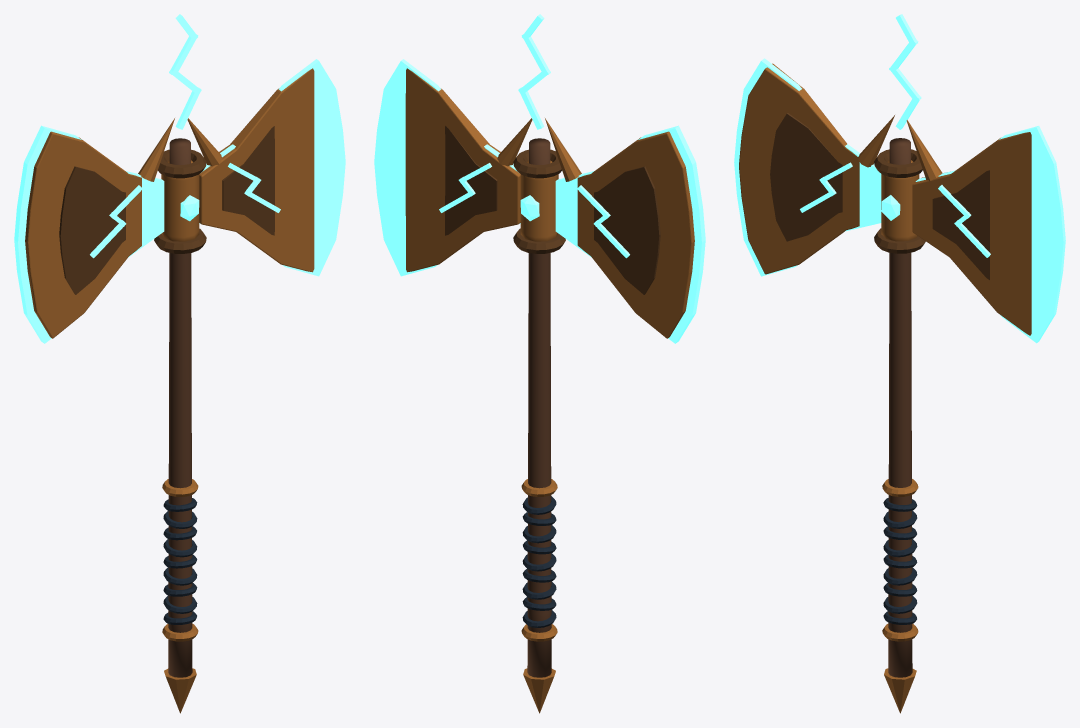
Rendered from stormwing-labrys.glb.
3 views of the same model, side by side, from view 1: azimuth 30°, elevation 25°; view 2: azimuth 150°, elevation 25°; view 3: azimuth 330°, elevation 25° (orthographic).
Parts seen in each view (by area): view 1: AX1_BladeR, AX1_BladeL, AX1_Haft, AX1_PanelL, AX1_RimR, AX1_RimL, AX1_PanelR, AX1_Socket, AX1_Socket_Top, AX1_Socket_Bot, AX1_Pommel, AX1_Horn-1 (+1 smaller); view 2: AX1_BladeR, AX1_BladeL, AX1_Haft, AX1_PanelL, AX1_RimR, AX1_RimL, AX1_PanelR, AX1_Socket, AX1_Socket_Top, AX1_Socket_Bot, AX1_Pommel, AX1_Horn-1 (+1 smaller); view 3: AX1_BladeR, AX1_BladeL, AX1_Haft, AX1_PanelL, AX1_RimR, AX1_PanelR, AX1_RimL, AX1_Socket, AX1_Socket_Top, AX1_Socket_Bot, AX1_Pommel, AX1_Horn1 (+1 smaller).
Part boxes in pixels (x1,y1,x2,y2): AX1_BladeR: [199, 68, 314, 272]; AX1_BladeL: [25, 131, 141, 338]; AX1_Haft: [168, 138, 192, 677]; AX1_PanelL: [59, 166, 125, 294]; AX1_RimR: [199, 59, 345, 276]; AX1_RimL: [14, 125, 164, 343]; AX1_PanelR: [222, 126, 274, 235]; AX1_Socket: [161, 160, 199, 241]; AX1_Socket_Top: [158, 149, 206, 178]; AX1_Socket_Bot: [154, 228, 206, 253]; AX1_Pommel: [164, 668, 196, 713]; AX1_Horn-1: [138, 118, 174, 181]; AX1_BladeR: [405, 68, 520, 272]; AX1_BladeL: [577, 131, 694, 338]; AX1_Haft: [527, 138, 551, 677]; AX1_PanelL: [594, 166, 660, 294]; AX1_RimR: [374, 59, 520, 276]; AX1_RimL: [555, 125, 705, 343]; AX1_PanelR: [445, 126, 497, 235]; AX1_Socket: [520, 160, 558, 241]; AX1_Socket_Top: [513, 149, 561, 178]; AX1_Socket_Bot: [513, 228, 565, 253]; AX1_Pommel: [523, 668, 555, 713]; AX1_Horn-1: [545, 118, 581, 181]; AX1_BladeR: [912, 132, 1031, 335]; AX1_BladeL: [739, 63, 859, 274]; AX1_Haft: [888, 138, 912, 677]; AX1_PanelL: [770, 113, 842, 241]; AX1_RimR: [915, 126, 1065, 343]; AX1_PanelR: [932, 170, 989, 279]; AX1_RimL: [734, 58, 881, 276]; AX1_Socket: [881, 160, 919, 241]; AX1_Socket_Top: [874, 149, 922, 177]; AX1_Socket_Bot: [874, 228, 925, 253]; AX1_Pommel: [884, 668, 916, 713]; AX1_Horn1: [906, 120, 942, 181].
Bounding box in the file's own units: 0.999 × 2.03 × 0.14.
